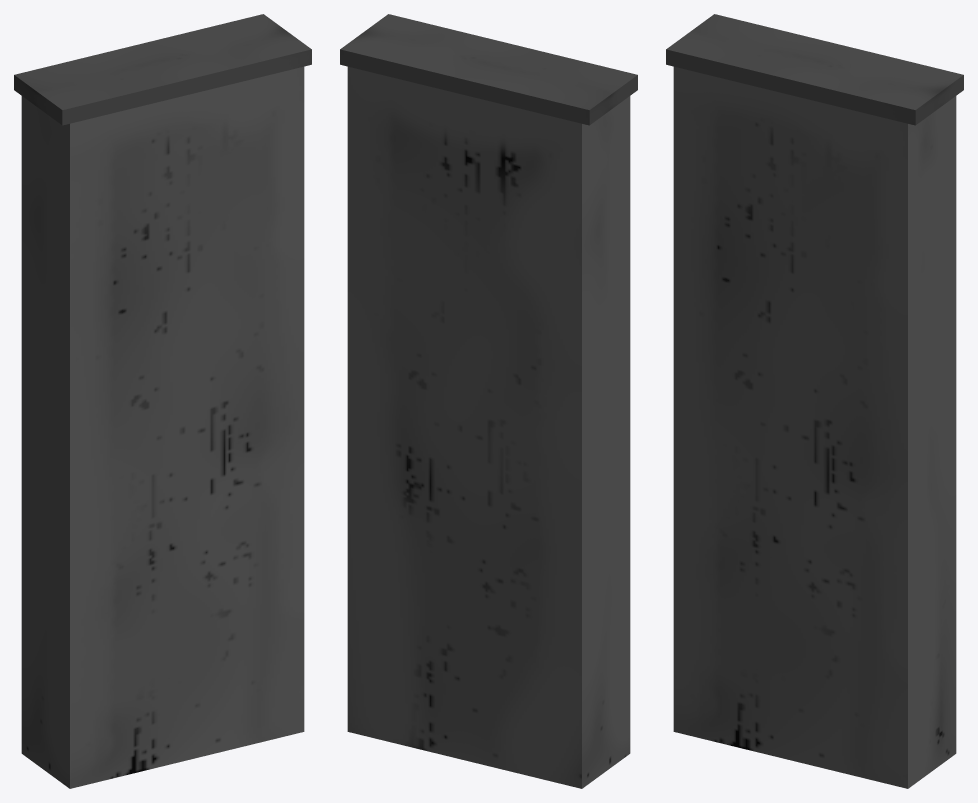
The model's file is Base_Ground_1x3_V1.fbx.
3 views of the same model, side by side, from view 1: azimuth 30°, elevation 25°; view 2: azimuth 150°, elevation 25°; view 3: azimuth 330°, elevation 25° (orthographic).
Parts seen in each view (by area): view 1: Base Ground 1x3 V1; view 2: Base Ground 1x3 V1; view 3: Base Ground 1x3 V1.
Boxes of the visible parts, <box> form: Base Ground 1x3 V1: <box>14,14,311,788</box>; Base Ground 1x3 V1: <box>340,14,637,788</box>; Base Ground 1x3 V1: <box>666,14,963,788</box>.
Size of the model in its own units: 298 by 778 by 100.
